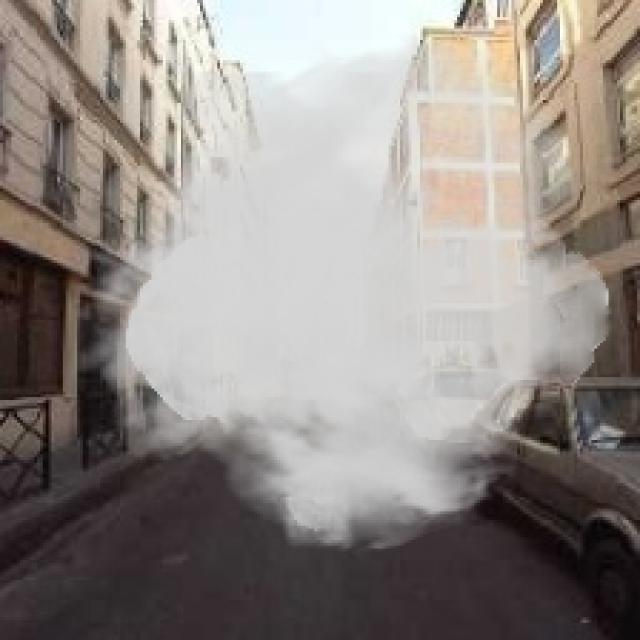smoke: (71, 26, 612, 557)
